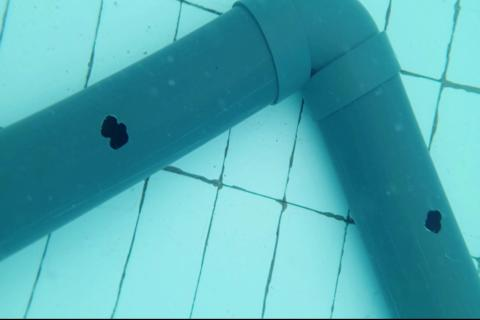kebocoran: (101, 115, 131, 153), (424, 209, 443, 234)
